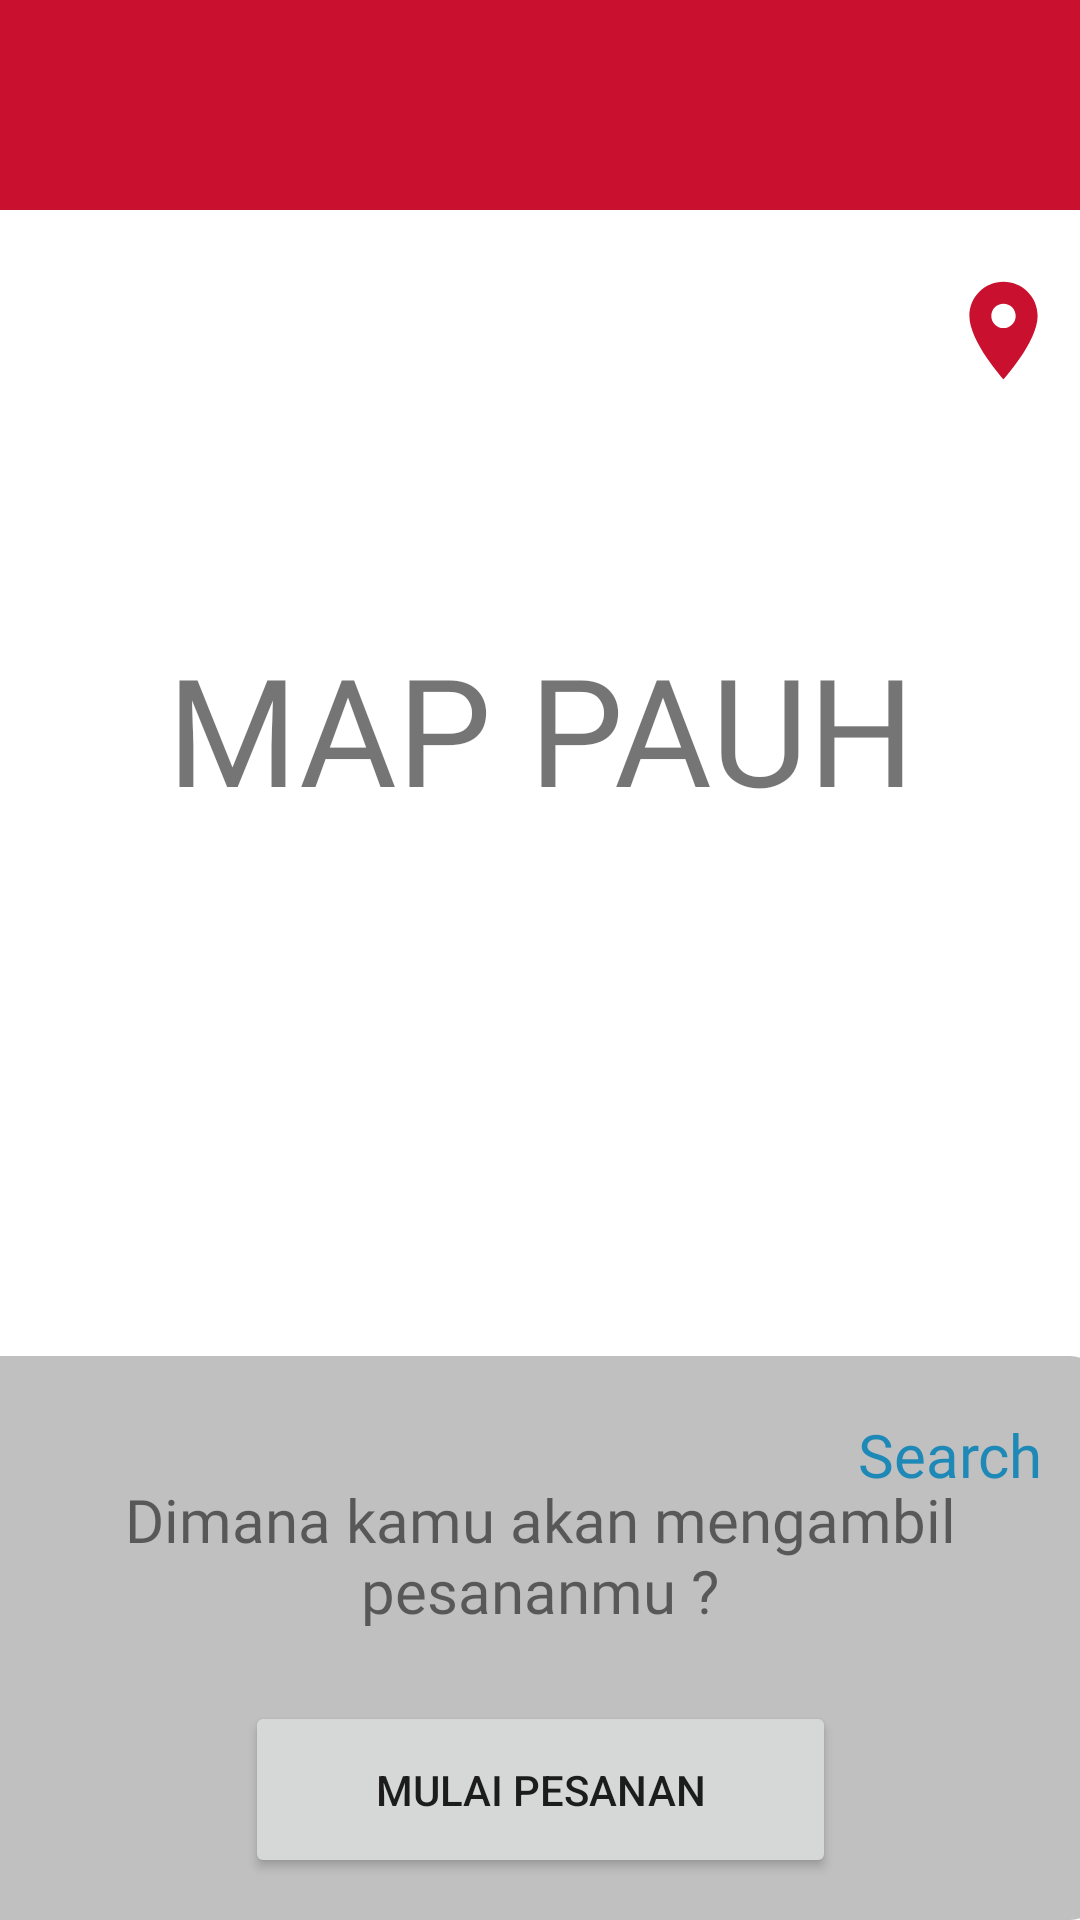

Icons on this 1080×1920 Android screen, each with the point to tap as [x,y]:
location on: [1003,330]
